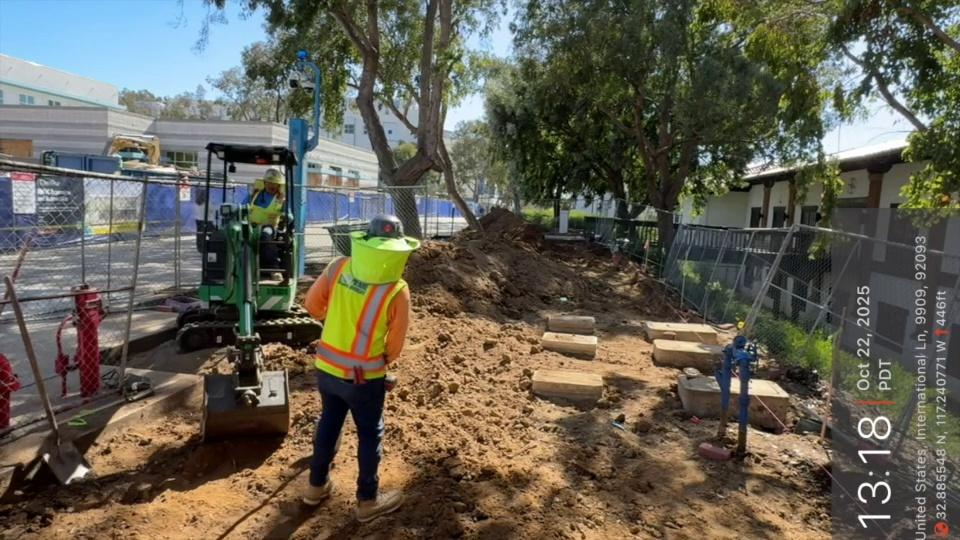Exacavator: (173, 48, 323, 442)
